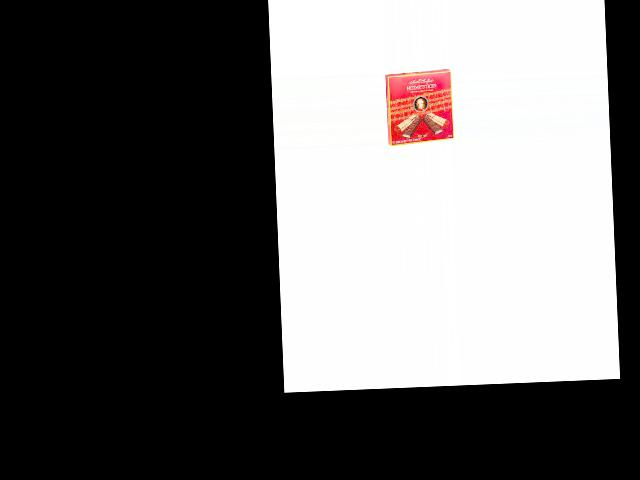chocolate: (384, 70, 455, 148)
